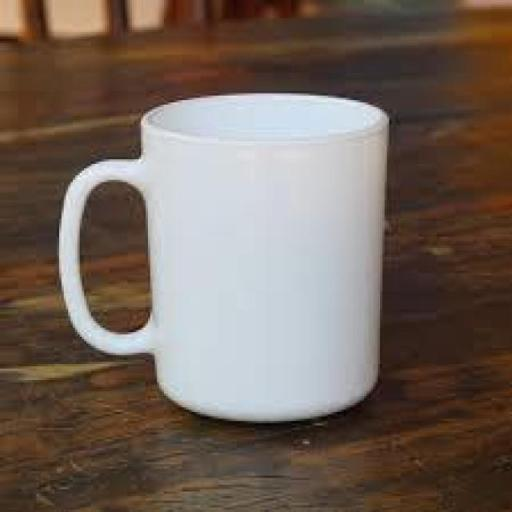glass: (34, 67, 429, 450)
